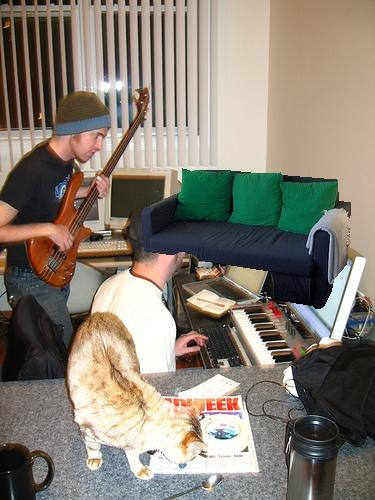tampered: (142, 169, 351, 309)
